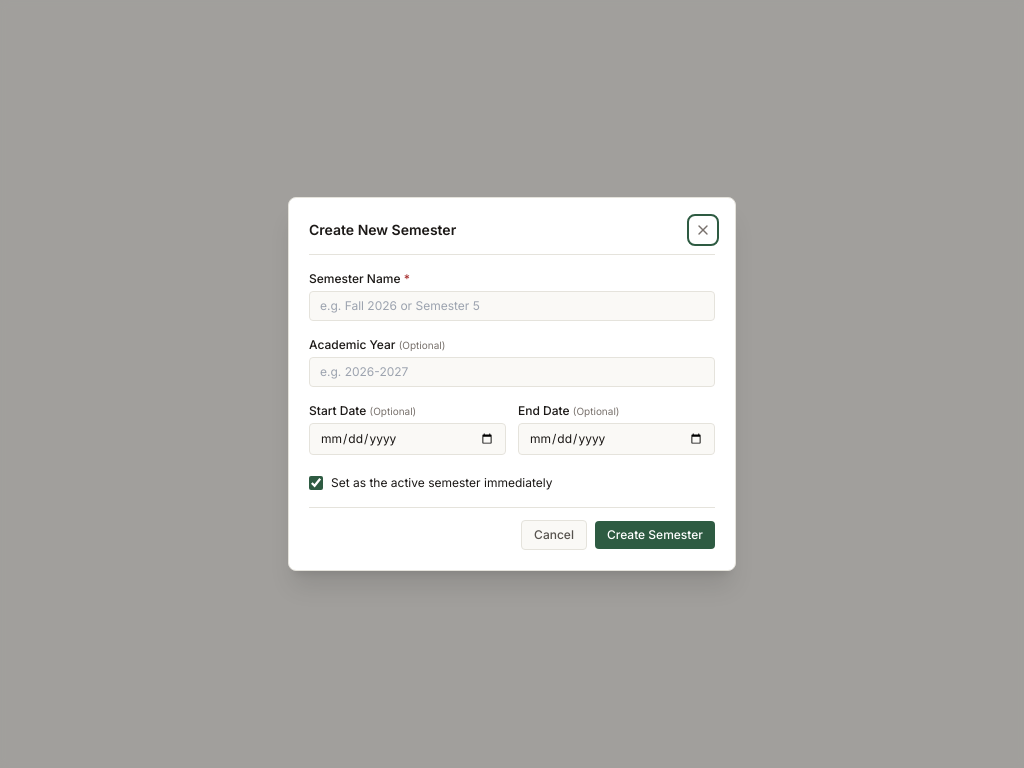
Scenario: SemesterForm Component › shows error when start date is after end date
The image size is (1024, 768).
Type "Spring 2027" into the field labelled "Semester Name *" at (512,306), box [309,291,715,321]
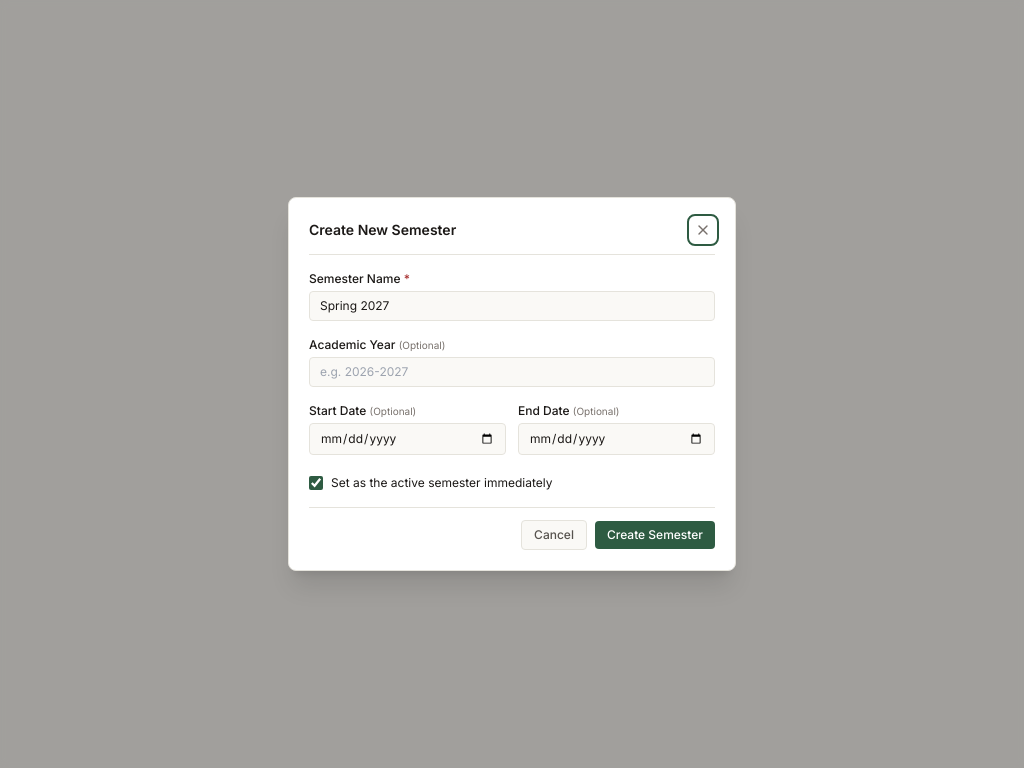
Type "2027-06-01" into the date field labelled "Start Date (Optional)" at (408,439), box [309,423,506,455]
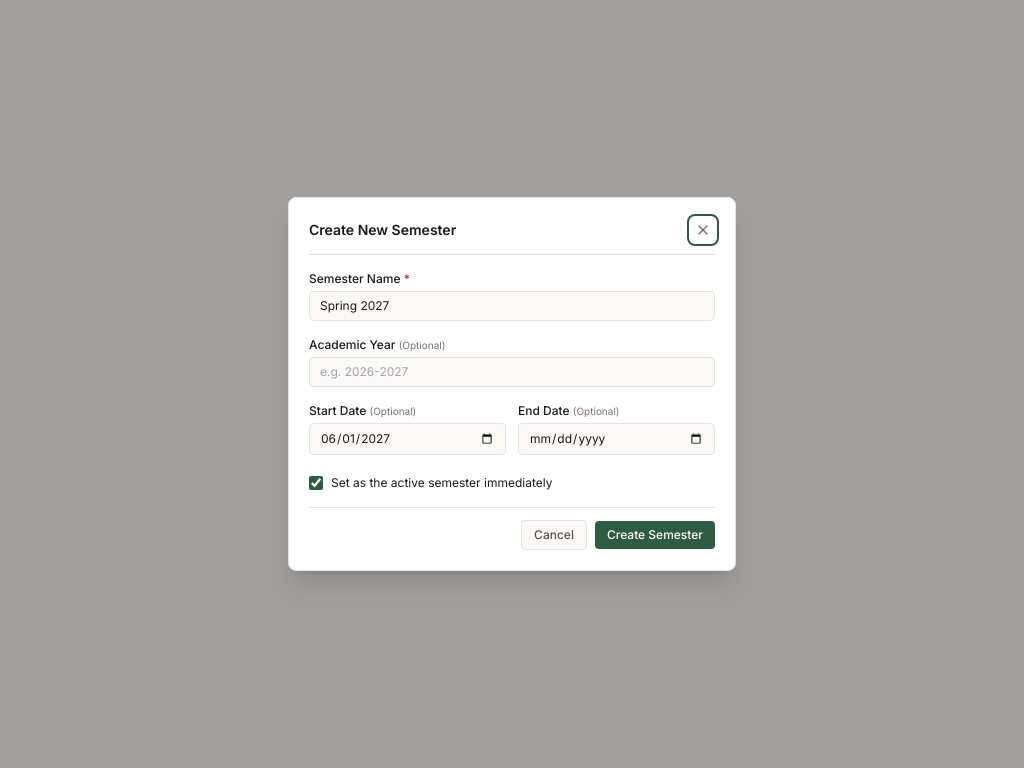
Type "2027-01-01" into the date field labelled "End Date (Optional)" at (616,439), box [518,423,715,455]
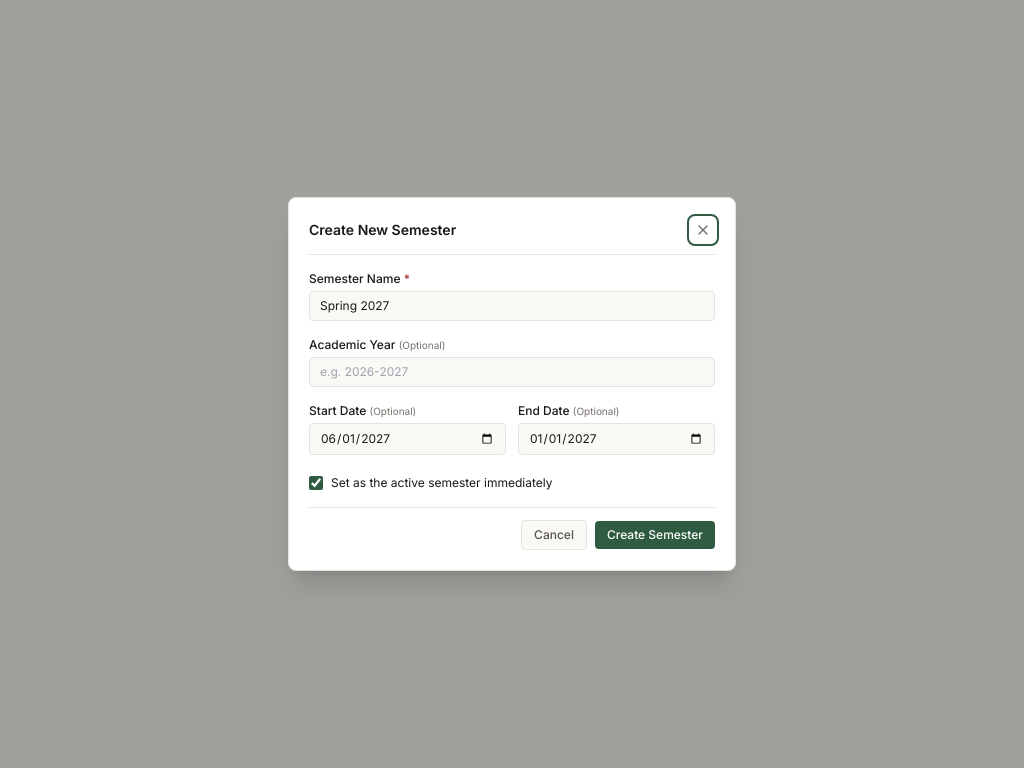
Click the button "Create Semester" at (655,535), box [595,521,715,549]
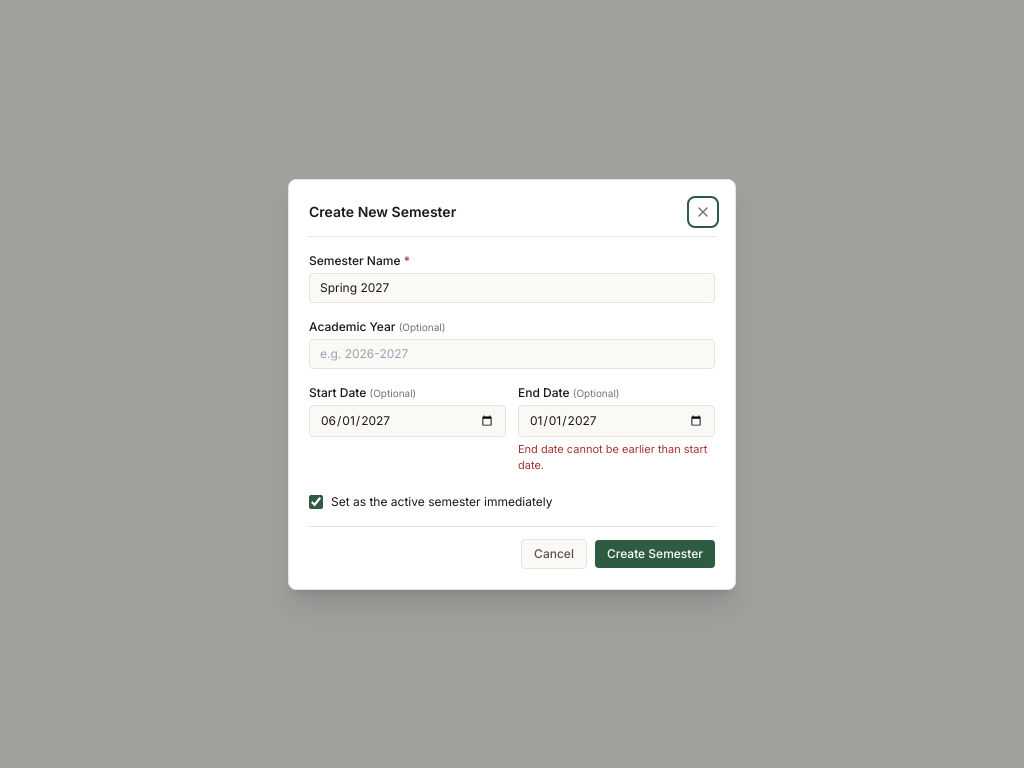
Check: the text "End date cannot be earlier than start date." is shown, box [518,440,715,474]
